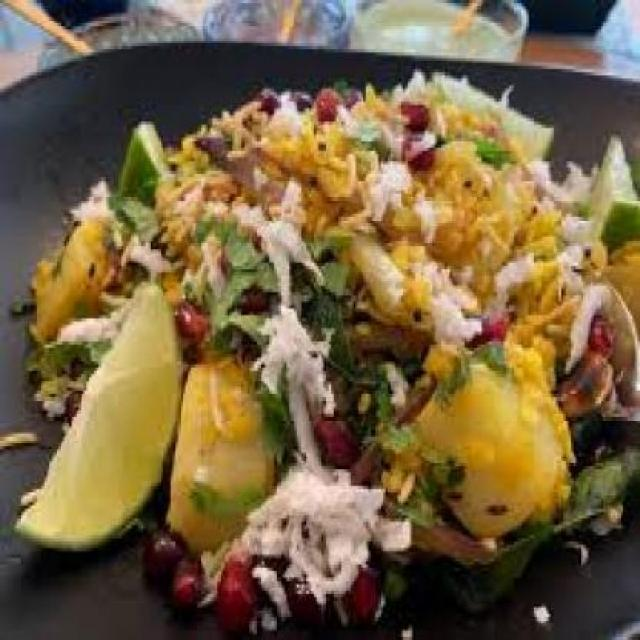poha: (14, 71, 640, 632)
